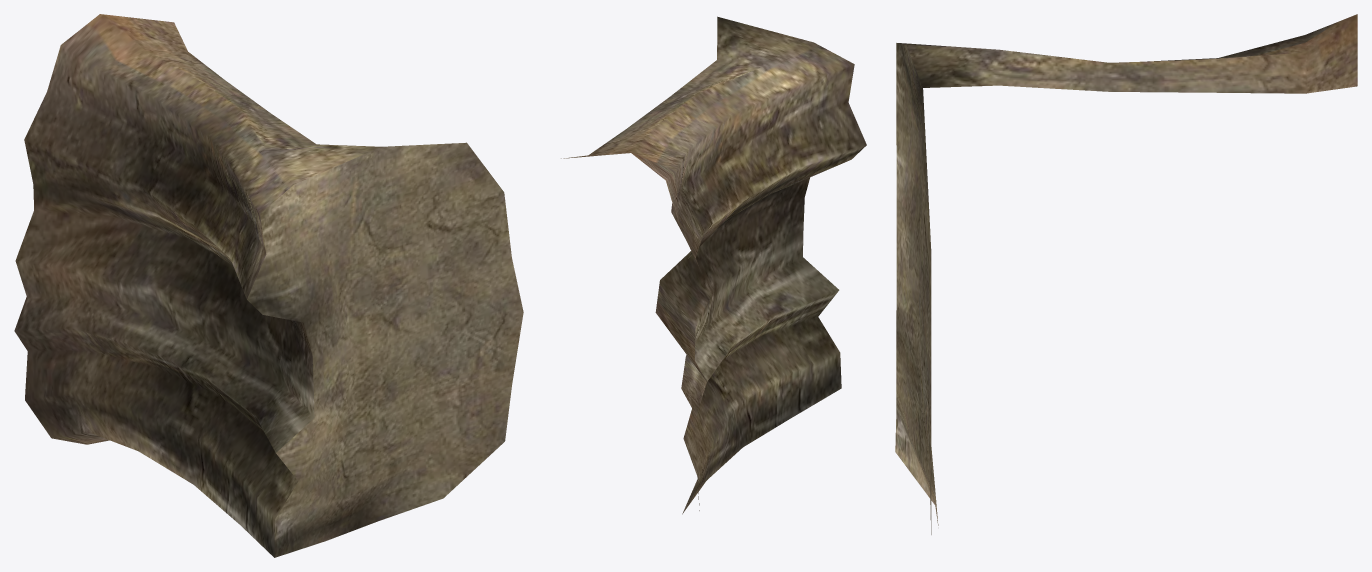
3 renders of one model, left to right at view 1: azimuth 30°, elevation 25°; view 2: azimuth 150°, elevation 25°; view 3: azimuth 270°, elevation 25°, orthographic. The views are drawn at different scales.
Visible parts, largest first — view 1: model_Object32; view 2: model_Object32; view 3: model_Object32.
Boxes of the visible parts, x1,y1,x2,y2 form: model_Object32: (14, 14, 523, 557); model_Object32: (561, 16, 866, 514); model_Object32: (895, 14, 1357, 534).
Bounding box in the file's own units: 3.06 × 3.85 × 3.26.
Materials: 2 (2 with a texture image).
